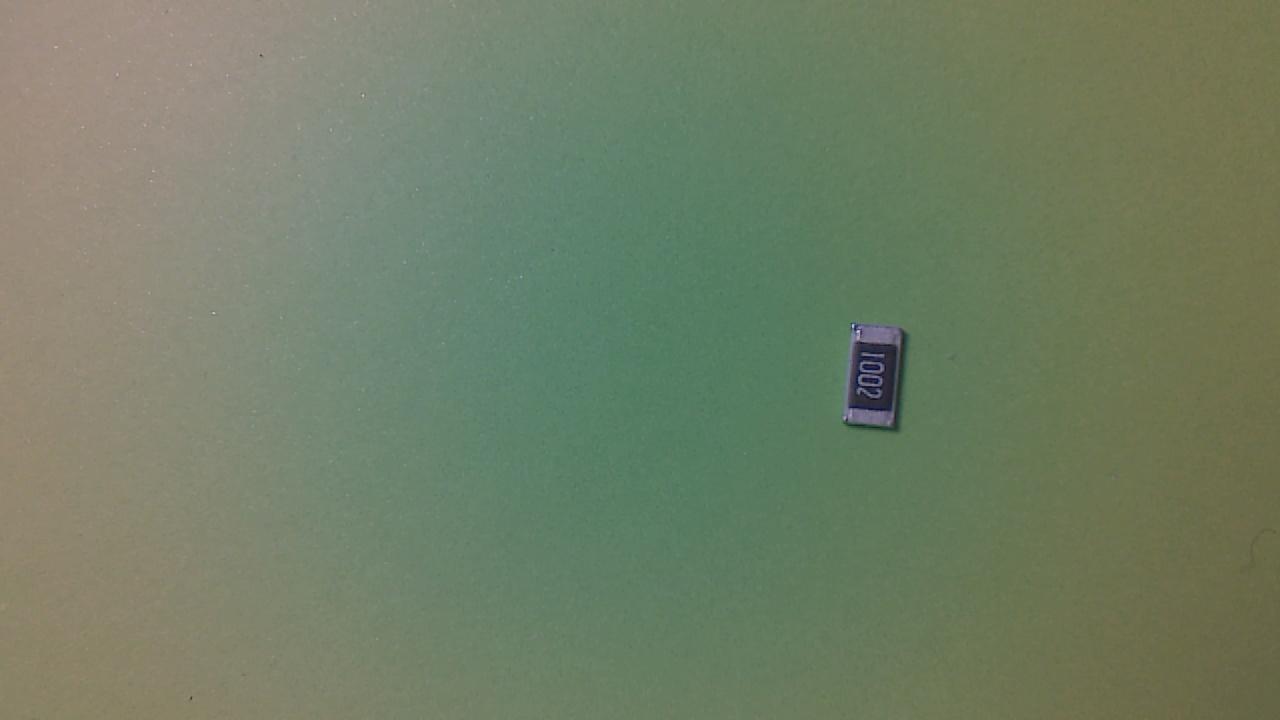Resistor: (844, 325, 915, 438)
